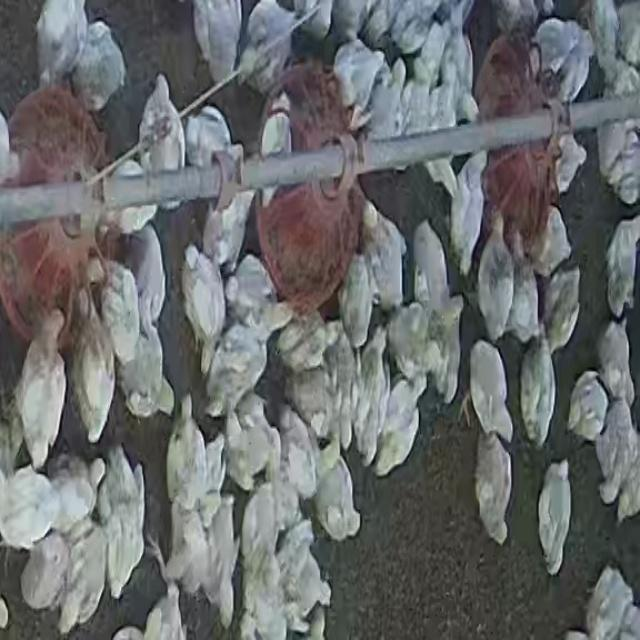chicken: (15, 314, 66, 468), (398, 38, 451, 183), (237, 481, 286, 635), (136, 75, 188, 207), (270, 516, 328, 634), (234, 2, 302, 96), (202, 327, 266, 425), (72, 302, 116, 444), (119, 318, 173, 423), (373, 382, 426, 478), (466, 339, 512, 447), (595, 395, 638, 510), (188, 1, 243, 90), (204, 495, 240, 630), (61, 516, 108, 619), (44, 455, 106, 533), (183, 240, 225, 355), (34, 0, 85, 92), (125, 224, 167, 334), (286, 358, 336, 449), (0, 465, 54, 549), (452, 150, 489, 272), (100, 442, 140, 554), (98, 262, 139, 371), (324, 327, 358, 457), (473, 432, 511, 546), (226, 400, 273, 492), (356, 328, 388, 461), (365, 206, 406, 308), (210, 189, 258, 275), (77, 21, 124, 108), (518, 338, 554, 450), (478, 214, 511, 335), (114, 584, 185, 640), (384, 0, 451, 59), (537, 460, 572, 572), (427, 298, 465, 401), (183, 104, 234, 180), (277, 404, 317, 500), (541, 258, 581, 354), (596, 116, 640, 203), (162, 501, 203, 594), (595, 320, 634, 417), (604, 212, 640, 316), (21, 536, 68, 613), (550, 26, 594, 107), (227, 250, 274, 324), (412, 220, 449, 312), (386, 301, 428, 382), (317, 459, 360, 538), (334, 38, 384, 105), (534, 204, 574, 287), (341, 247, 375, 344), (526, 15, 579, 76), (164, 400, 194, 505), (506, 248, 538, 343), (588, 0, 624, 82), (568, 373, 610, 443), (366, 61, 405, 136), (449, 37, 482, 120), (200, 426, 227, 520), (488, 0, 542, 38)
